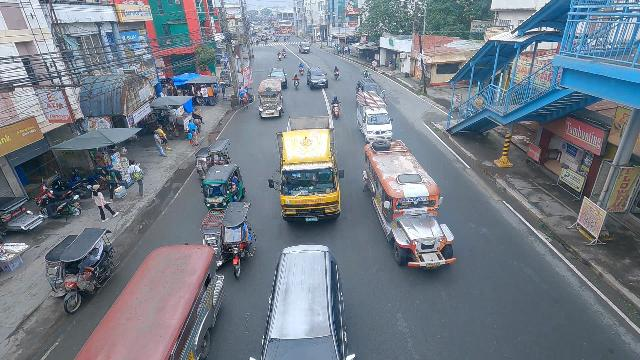bus: (273, 22, 294, 34)
car: (355, 79, 387, 101), (306, 66, 329, 90), (268, 67, 287, 90)
jeepney: (361, 140, 459, 270), (256, 78, 285, 120)
motorcycle: (329, 98, 342, 120), (332, 65, 341, 83), (292, 73, 300, 91), (298, 63, 305, 77), (282, 48, 287, 58), (278, 50, 282, 59)
truck: (271, 116, 346, 228), (297, 41, 311, 54)
van: (355, 90, 394, 144)
